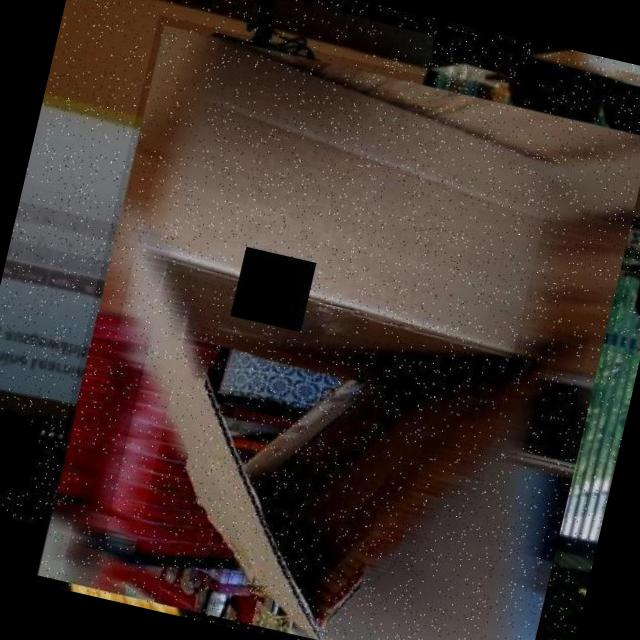box: (27, 14, 640, 640)
